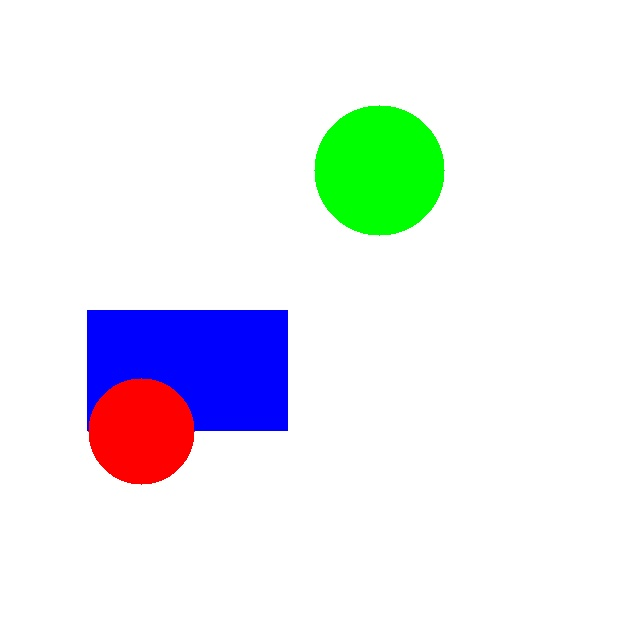cartao: (87, 310, 287, 430)
rosca_externa: (314, 105, 444, 235)
rosca_interna: (88, 378, 194, 484)
